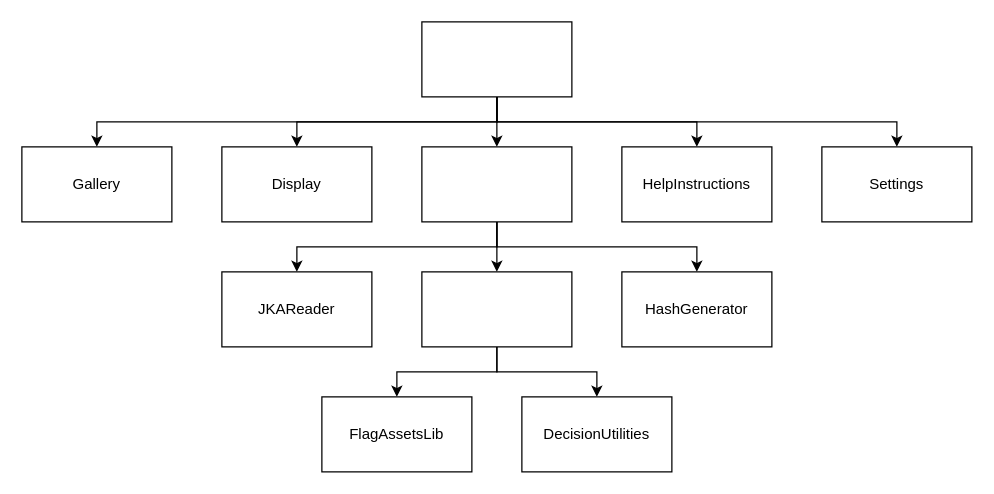
This 994x494 diagram has some shape labels left out. The shapes that lost their labels are listed below. From the top down, each one's box as (x1, y1, x2, y2) in pixels, then its label:
(421, 21, 572, 97): GUI
(421, 146, 572, 222): FlagGenerator
(421, 271, 572, 347): HashToFlag
